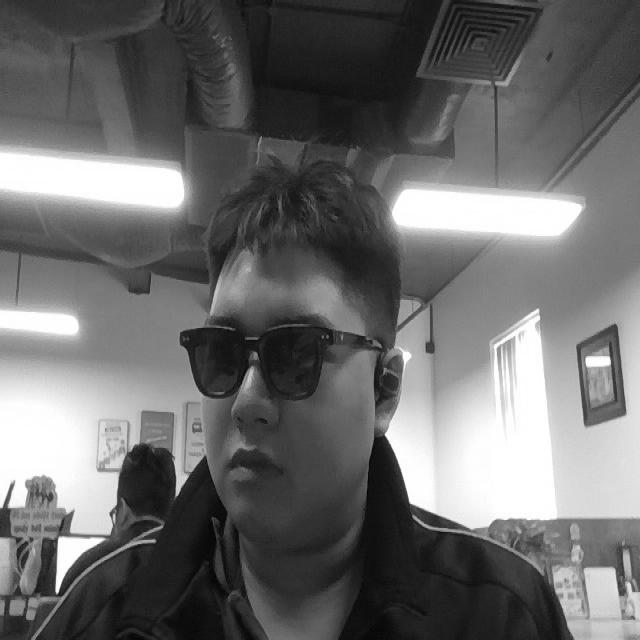fake: (167, 321, 390, 399)
real: (189, 182, 399, 525)
